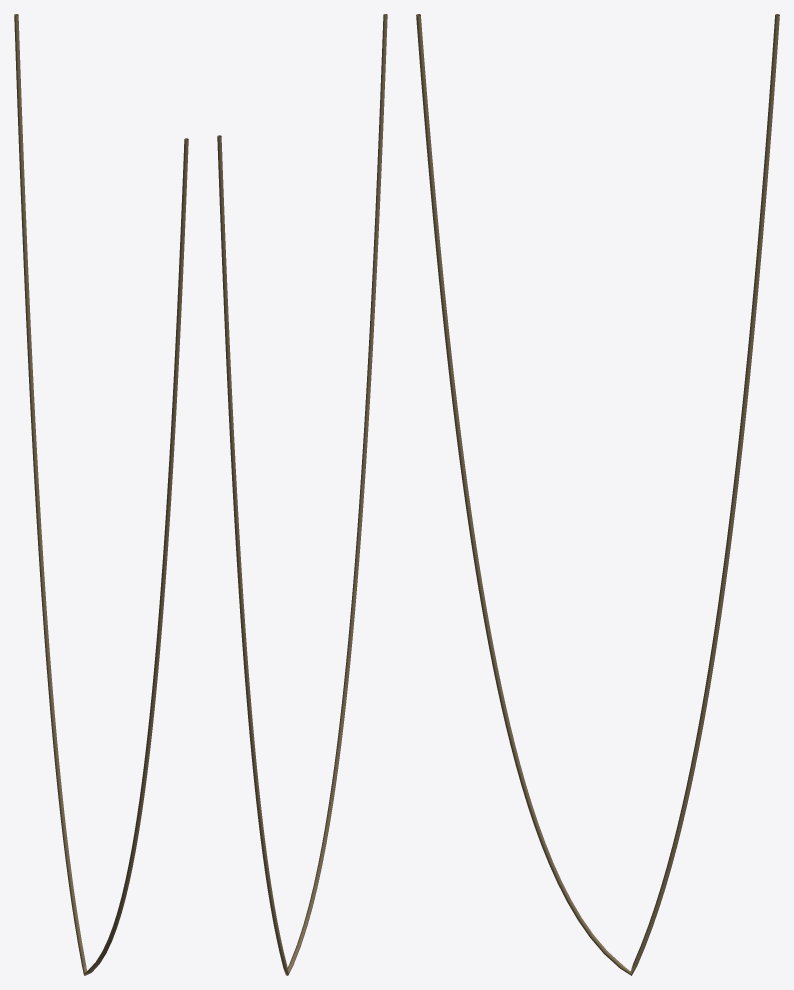
The model's file is SAG_chain_C.glb.
3 views of the same model, side by side, from view 1: azimuth 30°, elevation 25°; view 2: azimuth 150°, elevation 25°; view 3: azimuth 270°, elevation 25° (orthographic). The views are drawn at different scales.
Visible parts, largest first — view 1: SAG_DYN_ChainSegment_C_PLETE.003; view 2: SAG_DYN_ChainSegment_C_PLETE.003; view 3: SAG_DYN_ChainSegment_C_PLETE.003.
Boxes of the visible parts, bbox=[...] form: SAG_DYN_ChainSegment_C_PLETE.003: bbox=[14, 14, 188, 975]; SAG_DYN_ChainSegment_C_PLETE.003: bbox=[217, 14, 387, 975]; SAG_DYN_ChainSegment_C_PLETE.003: bbox=[416, 14, 779, 975].
Bounding box in the file's own units: 0.02 × 4.43 × 1.52.
